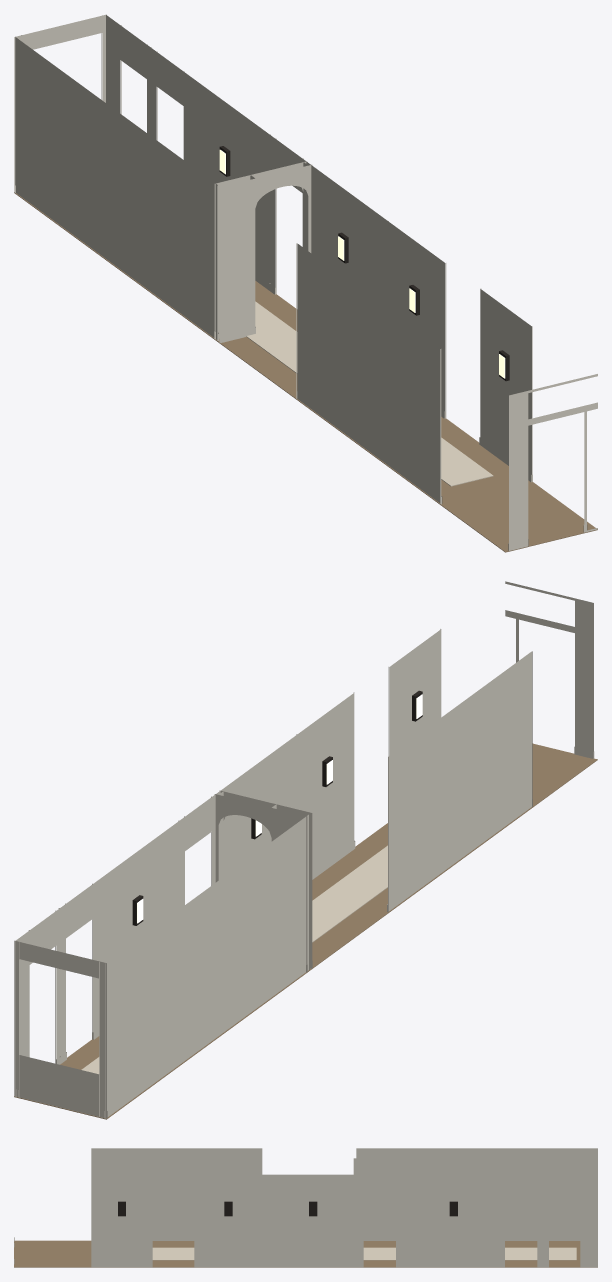
The model's file is corridor-3.glb.
3 renders of one model, top to bottom at view 1: azimuth 30°, elevation 25°; view 2: azimuth 150°, elevation 25°; view 3: azimuth 270°, elevation 25°, orthographic. The views are drawn at different scales.
Visible parts, largest first — view 1: DESIGN | corridor removable wall finish, DESIGN | corridor floor finish, DESIGN | Quiet hall runner; view 2: DESIGN | corridor removable wall finish, DESIGN | corridor floor finish, DESIGN | Quiet hall runner; view 3: DESIGN | corridor removable wall finish, DESIGN | corridor floor finish, DESIGN | Quiet hall runner.
Part boxes in pixels (x1,y1,x2,y2): DESIGN | corridor removable wall finish: [14, 14, 597, 550]; DESIGN | corridor floor finish: [14, 192, 597, 552]; DESIGN | Quiet hall runner: [246, 301, 493, 486]; DESIGN | corridor removable wall finish: [14, 581, 594, 1118]; DESIGN | corridor floor finish: [14, 743, 597, 1119]; DESIGN | Quiet hall runner: [81, 845, 387, 1074]; DESIGN | corridor removable wall finish: [14, 1148, 597, 1267]; DESIGN | corridor floor finish: [14, 1240, 597, 1267]; DESIGN | Quiet hall runner: [152, 1247, 576, 1260].
Bounding box in the file's own units: 1.7 × 2.74 × 15.63.
